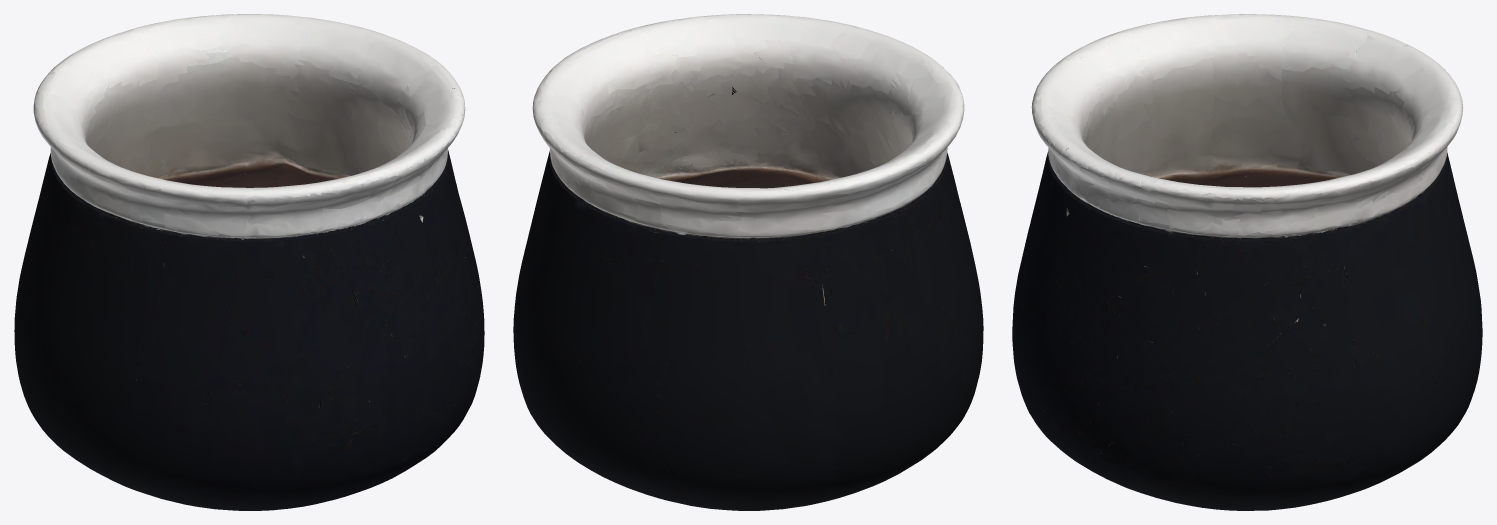
File: kitchen-mug-03.glb
3 renders of one model, left to right at view 1: azimuth 30°, elevation 25°; view 2: azimuth 150°, elevation 25°; view 3: azimuth 270°, elevation 25°, orthographic.
Visible parts, largest first — view 1: mesh_node; view 2: mesh_node; view 3: mesh_node.
Part boxes in pixels (<box>): mesh_node: <box>14,14,484,510</box>; mesh_node: <box>513,14,983,510</box>; mesh_node: <box>1012,14,1482,510</box>.
Bounding box in the file's own units: 1.9 × 1.64 × 1.9.
Materials: 1 (1 with a texture image).
